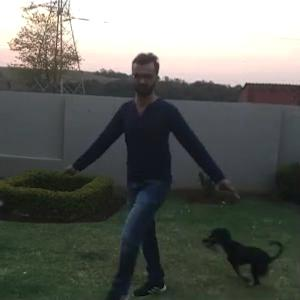land: (73, 71, 217, 280)
